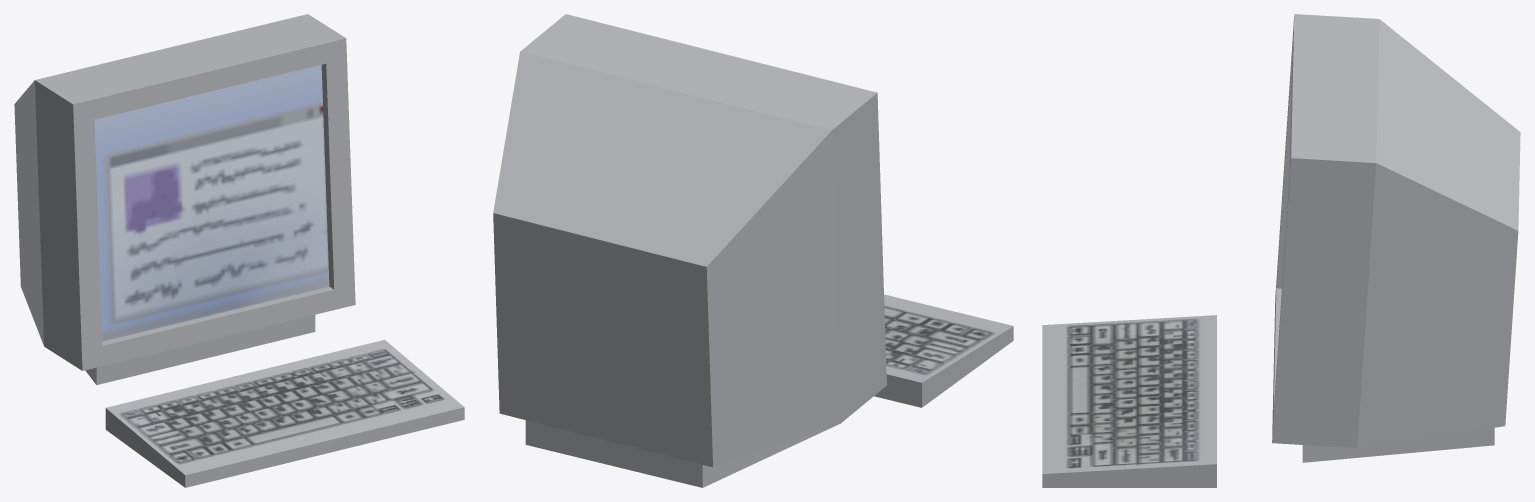
Rendered from computer 1.fbx.
3 renders of one model, left to right at view 1: azimuth 30°, elevation 25°; view 2: azimuth 150°, elevation 25°; view 3: azimuth 270°, elevation 25°, orthographic. The views are drawn at different scales.
Parts seen in each view (by area): view 1: Cube.005, Cube.007, Cube.006; view 2: Cube.005, Cube.007, Cube.006; view 3: Cube.005, Cube.007, Cube.006.
Boxes of the visible parts, x1,y1,x2,y2 form: Cube.005: [14, 14, 355, 370]; Cube.007: [105, 339, 464, 487]; Cube.006: [85, 315, 315, 385]; Cube.005: [493, 14, 886, 467]; Cube.007: [874, 294, 1013, 407]; Cube.006: [525, 420, 841, 487]; Cube.005: [1272, 14, 1520, 448]; Cube.007: [1042, 315, 1216, 487]; Cube.006: [1302, 428, 1494, 462].
Bounding box in the file's own units: 96.57 × 98.95 × 131.
